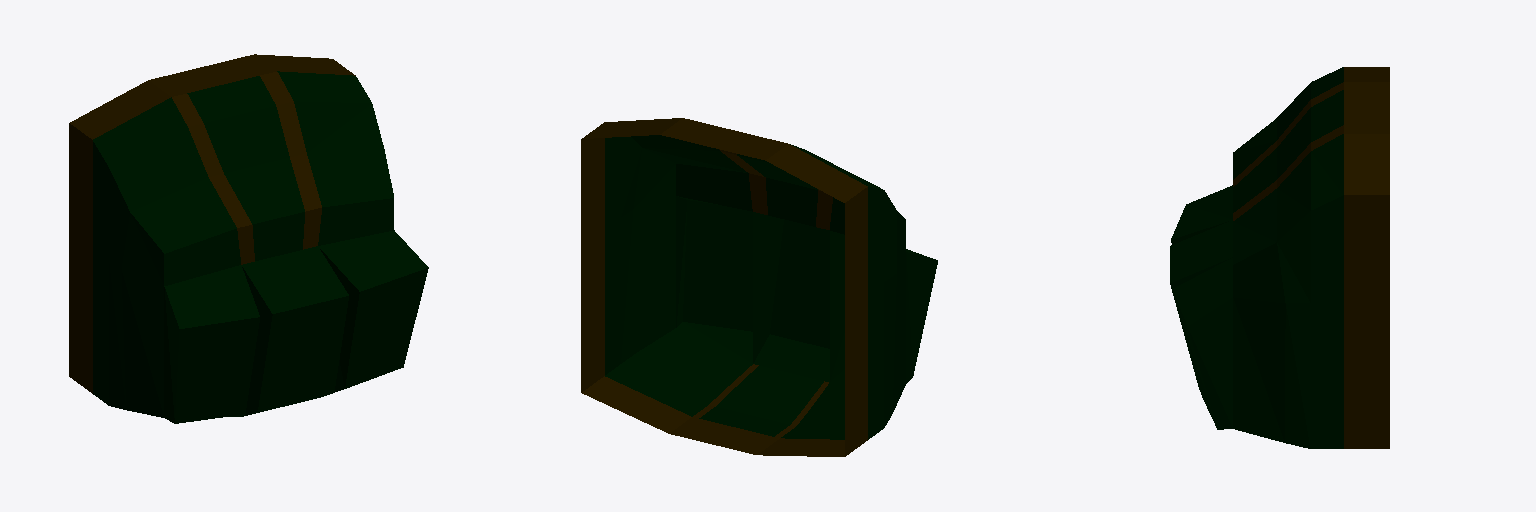
Rendered from bag.obj.
3 renders of one model, left to right at view 1: azimuth 30°, elevation 25°; view 2: azimuth 150°, elevation 25°; view 3: azimuth 270°, elevation 25°, orthographic.
Parts seen in each view (by area): view 1: bag; view 2: bag; view 3: bag.
Boxes of the visible parts, box(x1,y1,x2,y2) form: bag: box(69, 54, 428, 423); bag: box(581, 118, 937, 456); bag: box(1170, 67, 1389, 448).
Size of the model in its own units: 0.1664 by 0.1792 by 0.1204.